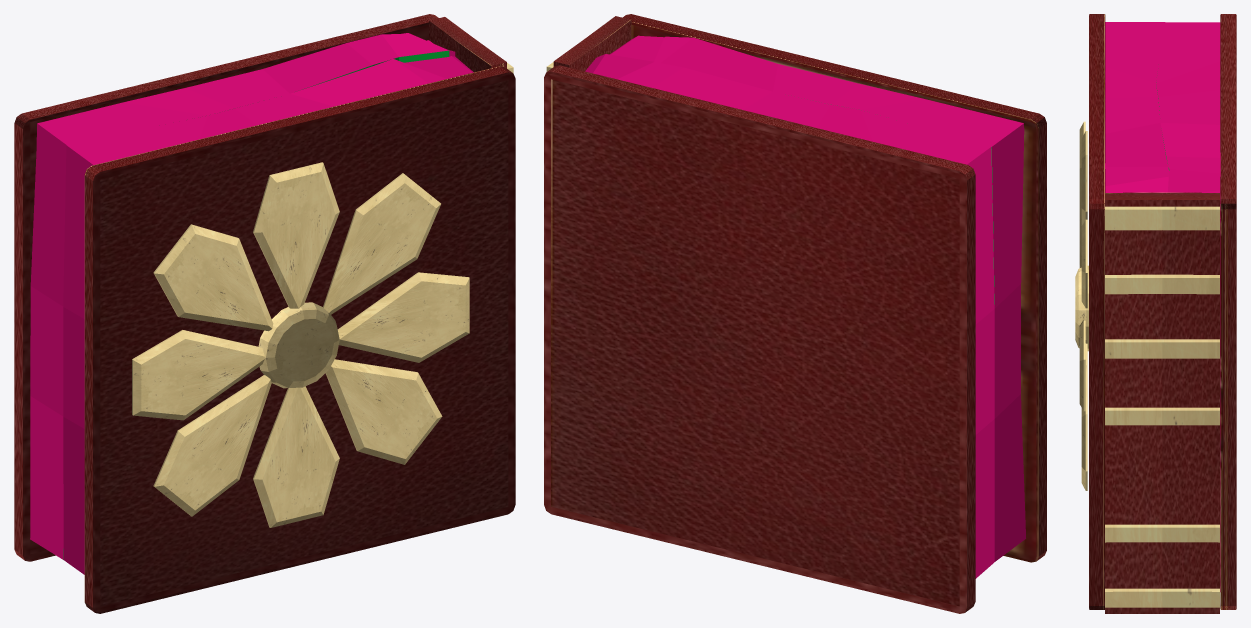
File: PLEASE WORK.fbx
3 views of the same model, side by side, from view 1: azimuth 30°, elevation 25°; view 2: azimuth 150°, elevation 25°; view 3: azimuth 270°, elevation 25° (orthographic). The views are drawn at different scales.
Visible parts, largest first — view 1: book; view 2: book; view 3: book.
Boxes of the visible parts, x1,y1,x2,y2 form: book: (14, 14, 515, 613); book: (544, 14, 1046, 613); book: (1075, 14, 1236, 613).
Size of the model in its own units: 96.38 by 95.64 by 33.79.
